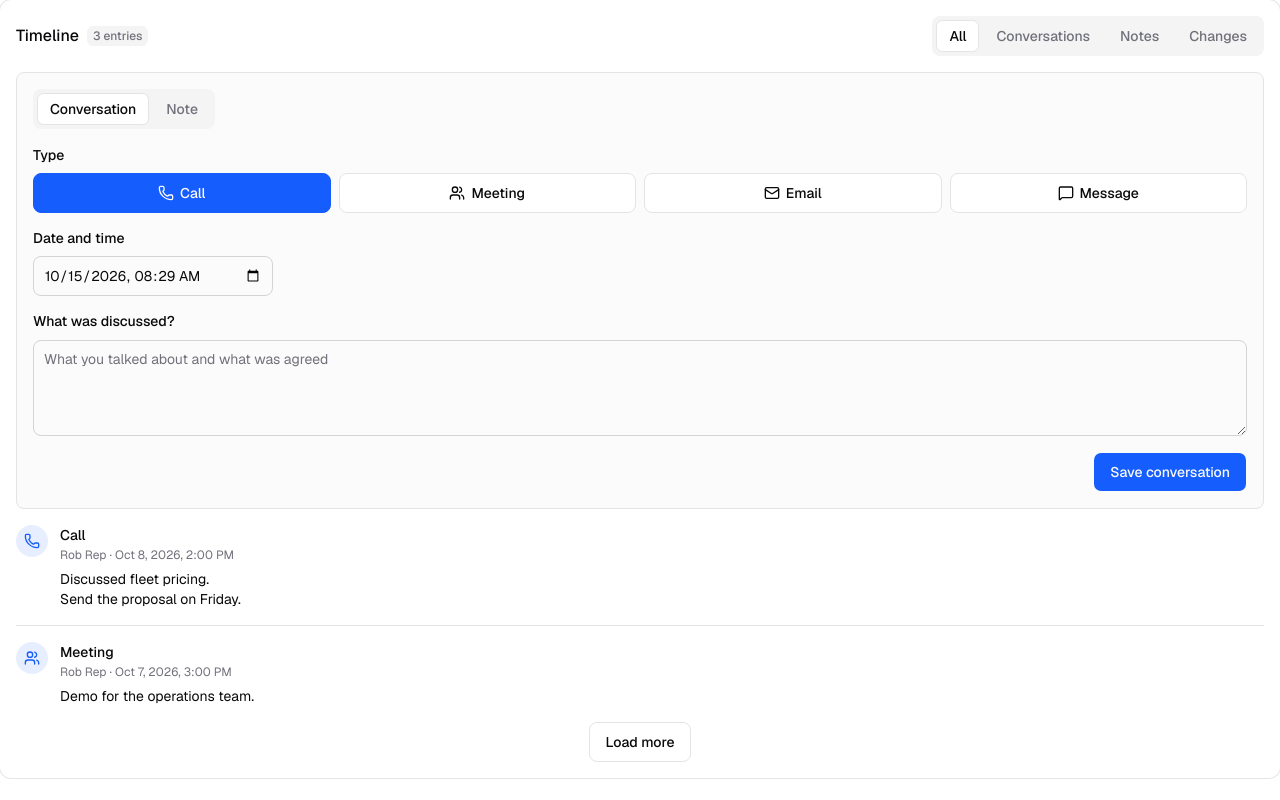
Test: Timeline › loads more entries under the list until all are shown
Expected: the text "3 entries" is shown, [87,26,148,46]
Click the button "Load more". click: {"x": 640, "y": 742}
box: [588,722,692,762]
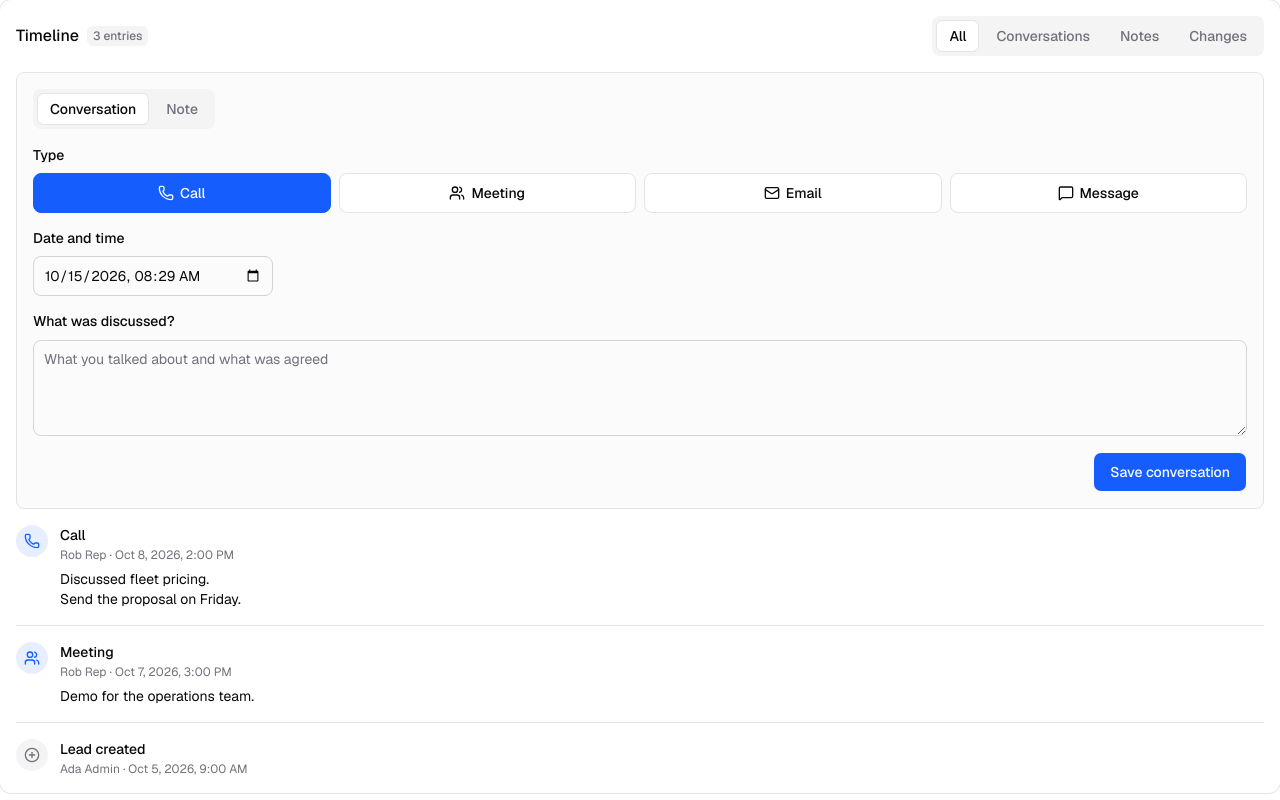
Expected: the button "Load more" is gone
